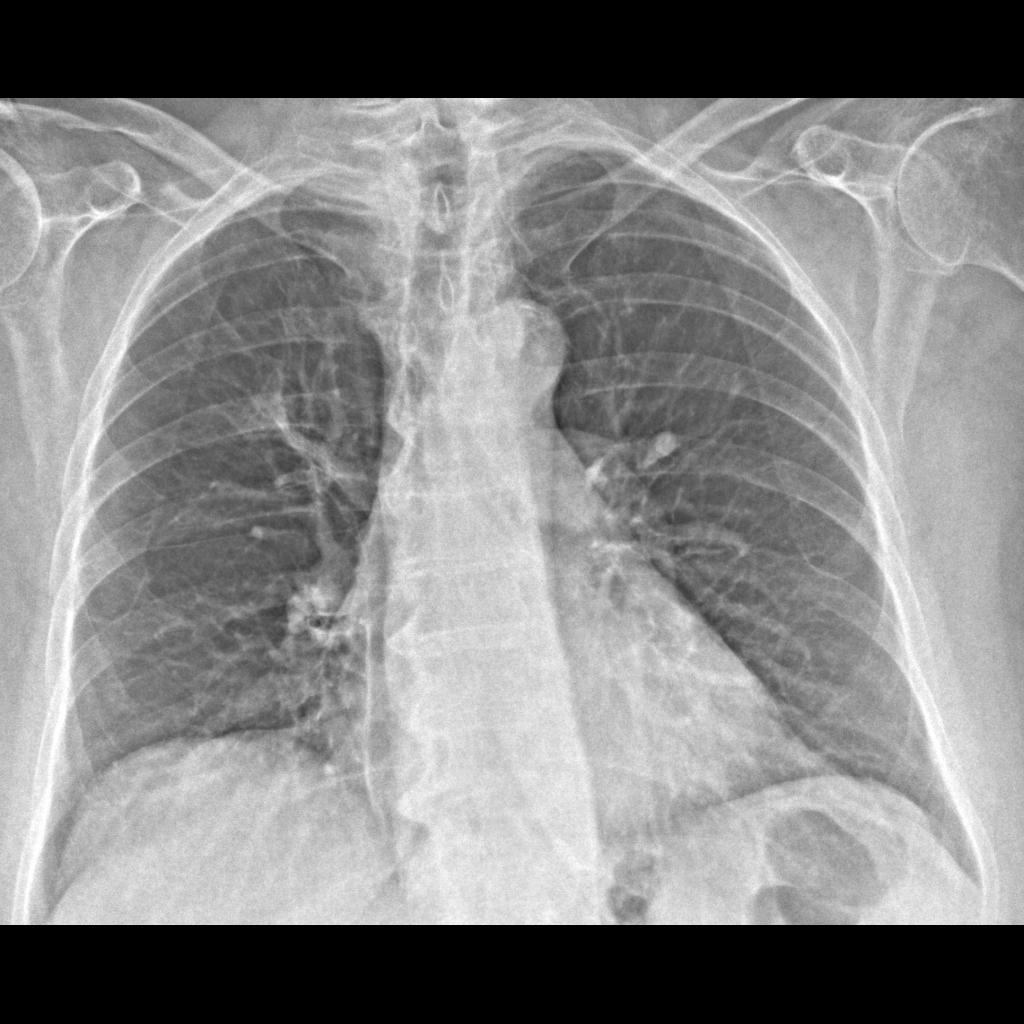Nodule: (232, 372, 298, 438)
